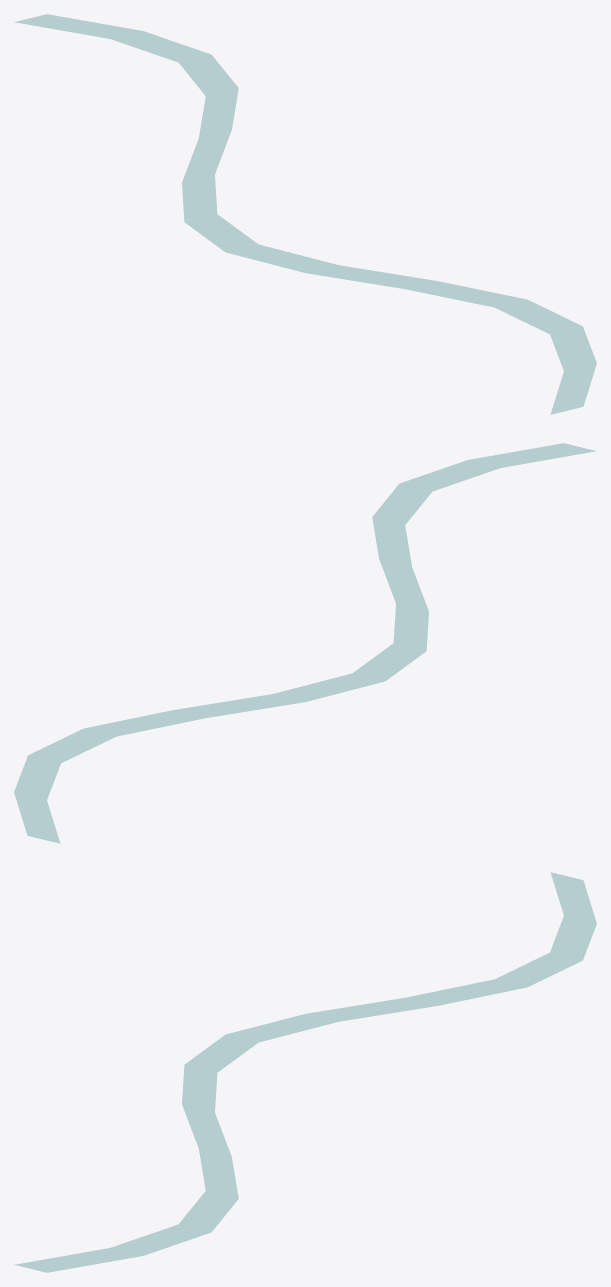
File: VientoFX.fbx
3 views of the same model, one above another, from view 1: azimuth 30°, elevation 25°; view 2: azimuth 150°, elevation 25°; view 3: azimuth 330°, elevation 25° (orthographic).
Visible parts, largest first — view 1: SM_VientoNorte; view 2: SM_VientoNorte; view 3: SM_VientoNorte.
Part boxes in pixels (x1=…): SM_VientoNorte: x1=14, y1=14, x2=596, y2=414; SM_VientoNorte: x1=14, y1=443, x2=596, y2=843; SM_VientoNorte: x1=14, y1=872, x2=596, y2=1272.
Bounding box in the file's own units: 0.1862 × 1.47e-07 × 0.9.
